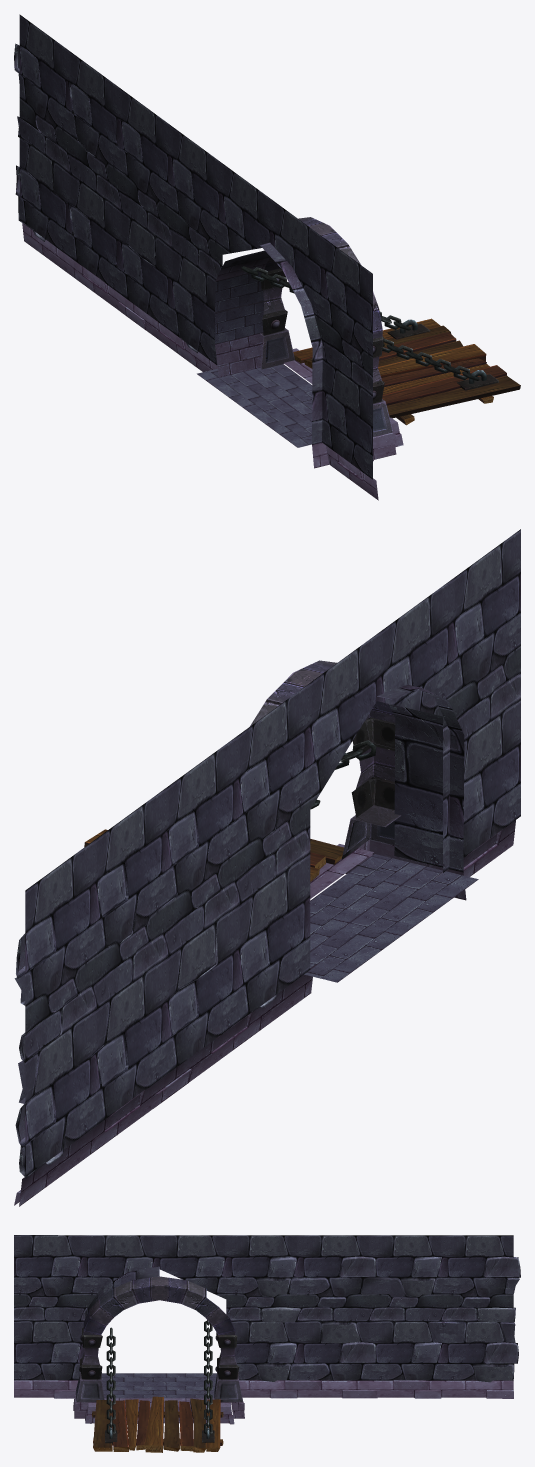
The model's file is T_rock.FBX.
3 renders of one model, top to bottom at view 1: azimuth 30°, elevation 25°; view 2: azimuth 150°, elevation 25°; view 3: azimuth 270°, elevation 25°, orthographic. The views are drawn at different scales.
Visible parts, largest first — view 1: T_rock; view 2: T_rock; view 3: T_rock.
Boxes of the visible parts, <box> form: T_rock: <box>14,14,520,500</box>; T_rock: <box>14,529,520,1206</box>; T_rock: <box>14,1235,520,1452</box>.
Size of the model in its own units: 328 by 311 by 888.
